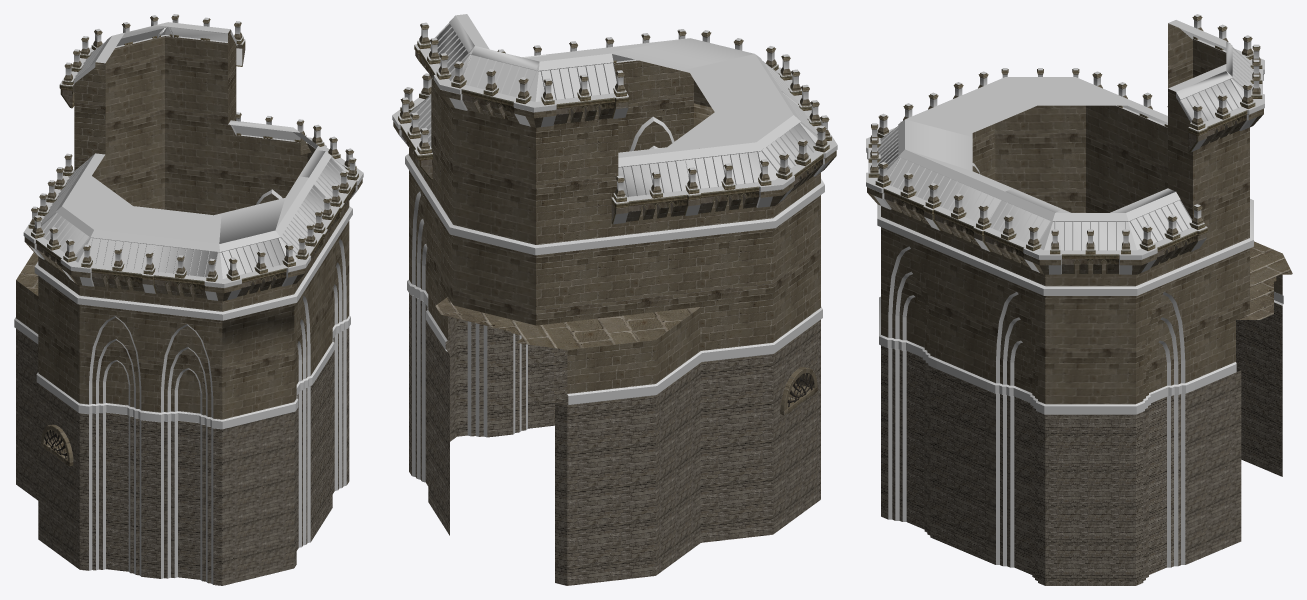
Rendered from SM_TowerGateHouse_04.FBX.
3 views of the same model, side by side, from view 1: azimuth 30°, elevation 25°; view 2: azimuth 150°, elevation 25°; view 3: azimuth 270°, elevation 25° (orthographic). The views are drawn at different scales.
Parts seen in each view (by area): view 1: SM_TowerGateHouse_04; view 2: SM_TowerGateHouse_04; view 3: SM_TowerGateHouse_04.
Part boxes in pixels (left/top/right/bottom): SM_TowerGateHouse_04: left=14, top=14, right=363, bottom=585; SM_TowerGateHouse_04: left=392, top=14, right=837, bottom=585; SM_TowerGateHouse_04: left=866, top=14, right=1292, bottom=585.
Size of what is drawn, in the model's own units: 4324 by 4627 by 5536.
